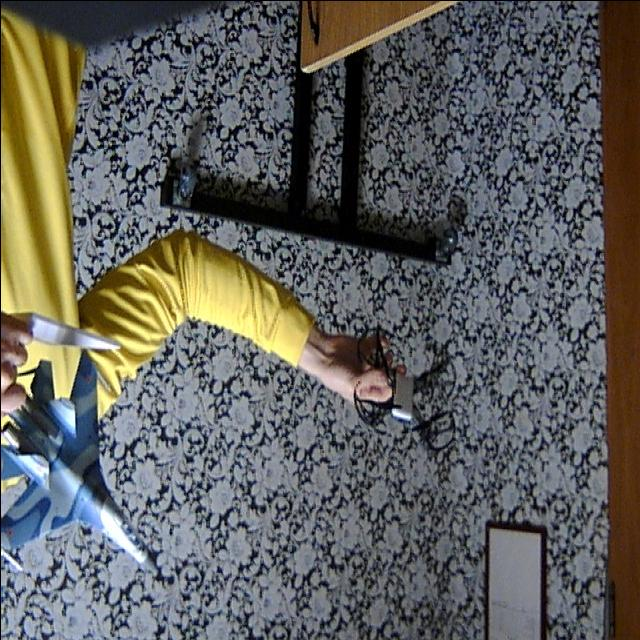drone: (340, 311, 462, 459)
